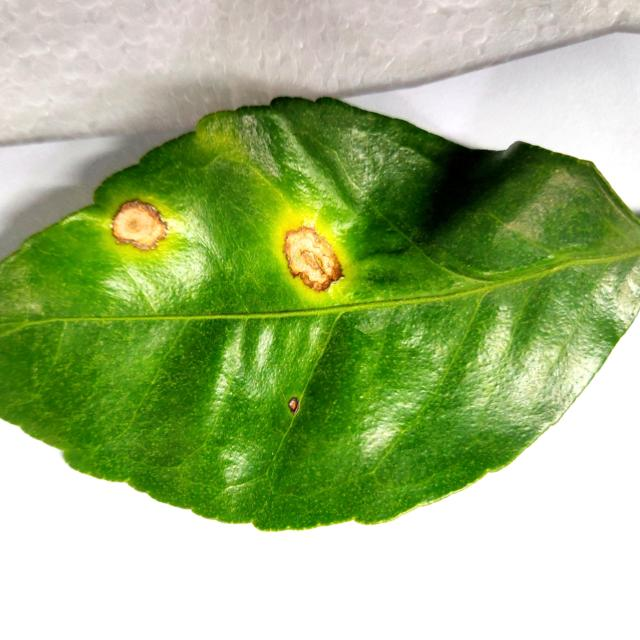antracnose: (0, 99, 640, 529), (284, 226, 342, 292), (112, 200, 168, 250), (288, 397, 299, 415)
